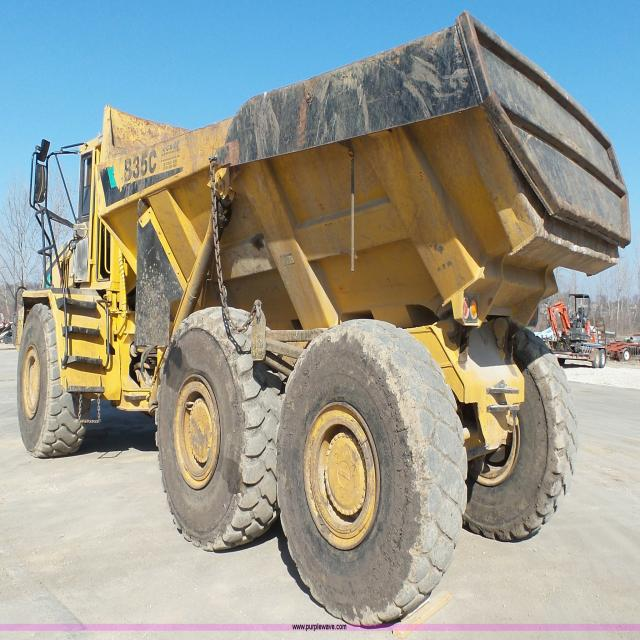dump_truck: (15, 13, 627, 611)
